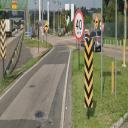preferencia: (102, 20, 106, 34)
speed_limit_40: (74, 8, 84, 42)
speed_limit_60: (40, 26, 42, 32)
